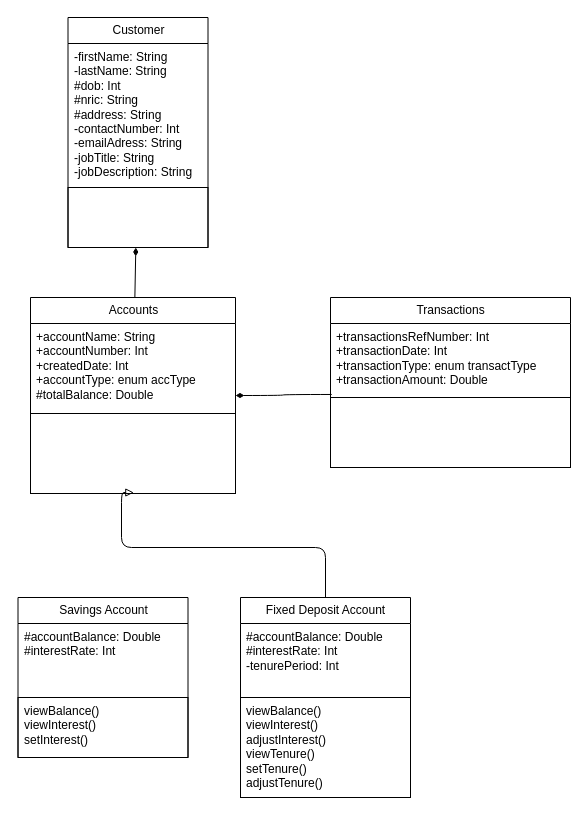
Some shapes in this 588 by 818 pixel diagram are drawn without their labels. The centre of each missing label's shape, as x and y in pixels:
"createAccount() viewAccount() closeAccount() editAccount()" belongs at (x=133, y=453).
"depositFunds() withdrawFunds() payLoan() viewTransactions()" belongs at (x=450, y=432).
"retrieveCustomerInfo() editCustomerInfo() registerCustomer()" belongs at (x=137, y=217).
